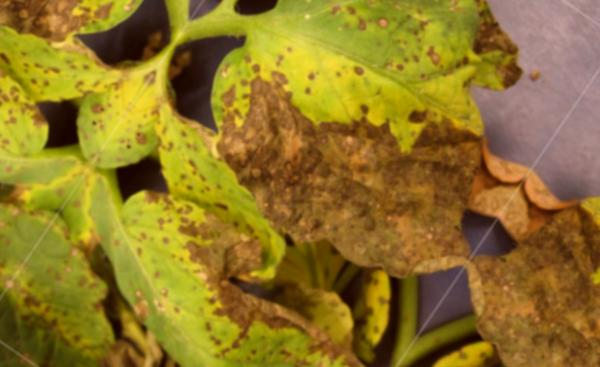Tomato Septoria leaf spot: (162, 0, 600, 324), (37, 158, 396, 367)
